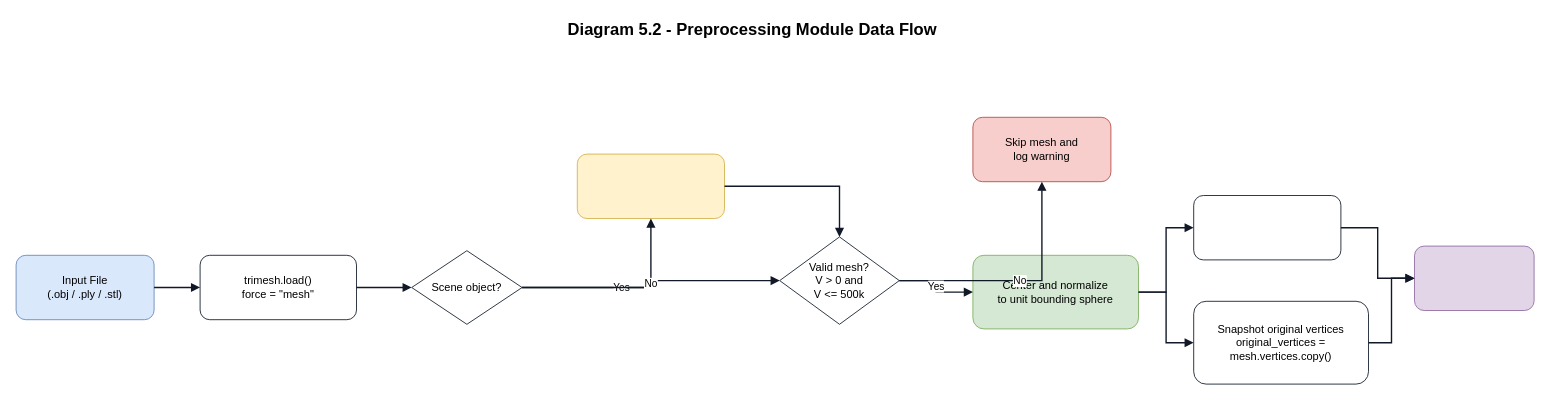
Image size: 1550x400. Some labels were removed from this diagram. Here are the shapes that lost their labels. From the top down, the box of each, then its label:
(576, 153, 724, 218): Concatenate all geometries
(1193, 195, 1341, 260): Extract nx.Graph vertex adjacency
(1414, 245, 1534, 310): Output to ML Engine
